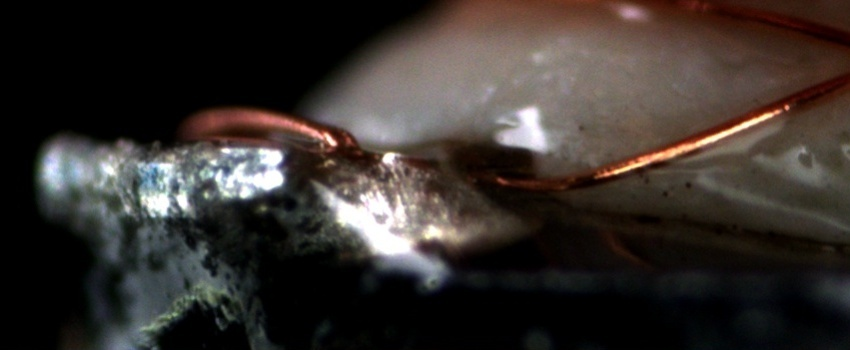TE: (169, 96, 366, 165)
